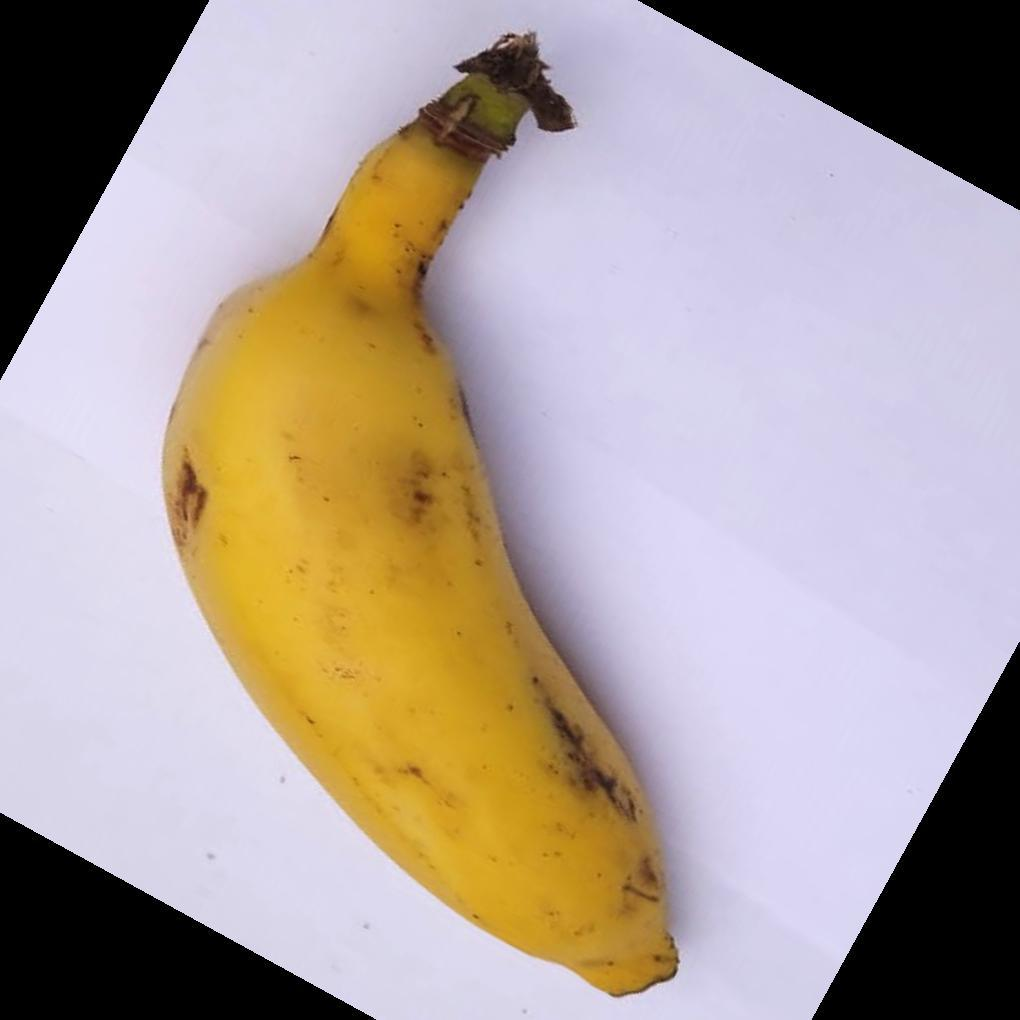Banana Ripe: (156, 54, 742, 1020)
